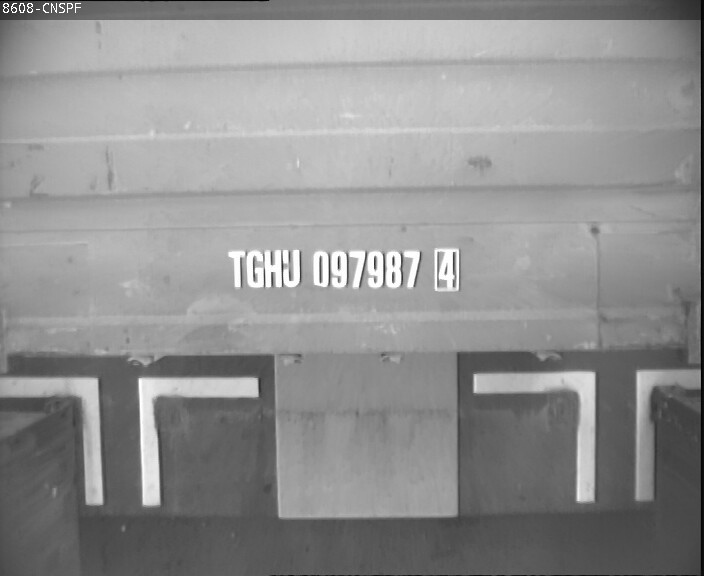groundmarker_1: (1, 373, 256, 506), (473, 368, 704, 500)
